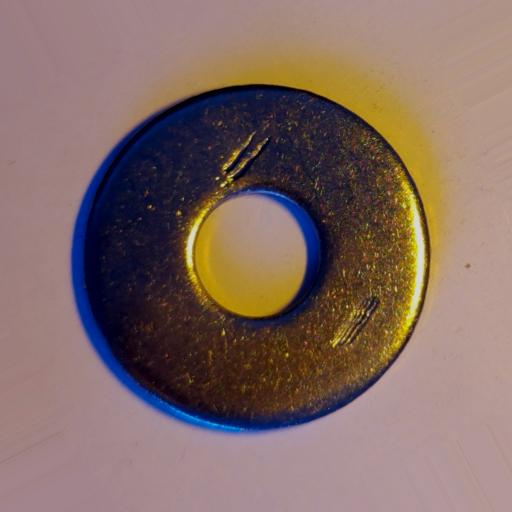scratch: (219, 130, 272, 188), (329, 297, 380, 349)
